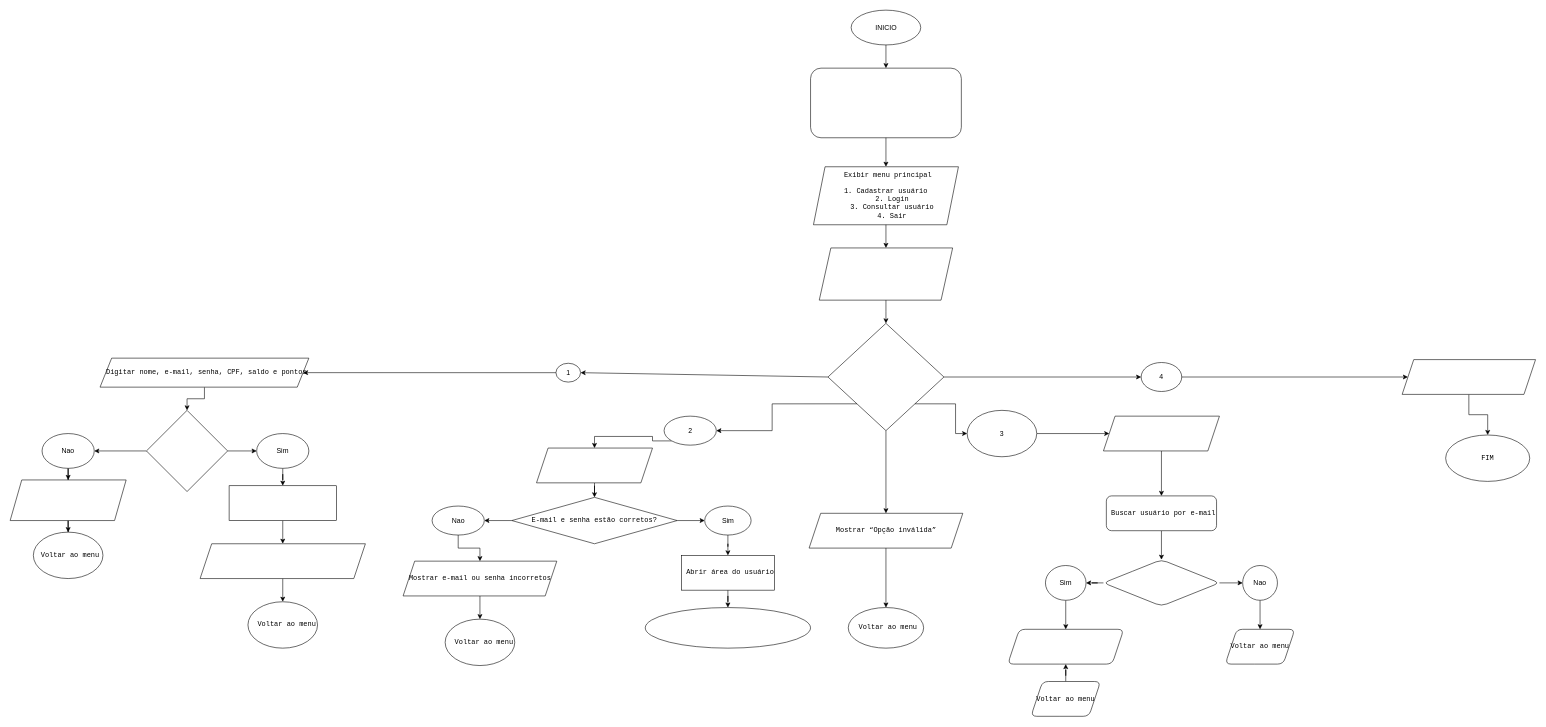
Some shapes in this 1546 by 727 pixel diagram are drawn without their labels. Each missing label, with the box of its shape:
Cadastrar e salvar usuário: (229, 485, 336, 521)
Carregar usuários: (810, 68, 961, 138)
Dados são válidos?: (146, 410, 228, 492)
Digitar e-mail do usuário: (1103, 416, 1219, 451)
Digitar e-mail e senha: (536, 447, 652, 483)
Escolher opção: (819, 247, 953, 300)
Ir para o fluxograma da área do usuário: (645, 607, 811, 648)
Mostrar cadastro realizado com sucesso: (200, 543, 365, 579)
Mostrar dados do usuário: (1007, 629, 1124, 664)
Mostrar mensagem de erro: (10, 479, 126, 521)
Mostrar “Saindo...”: (1402, 359, 1536, 394)
Qual opção foi escolhida?: (827, 323, 944, 431)
Usuário foi encontrado?: (1103, 559, 1219, 606)
